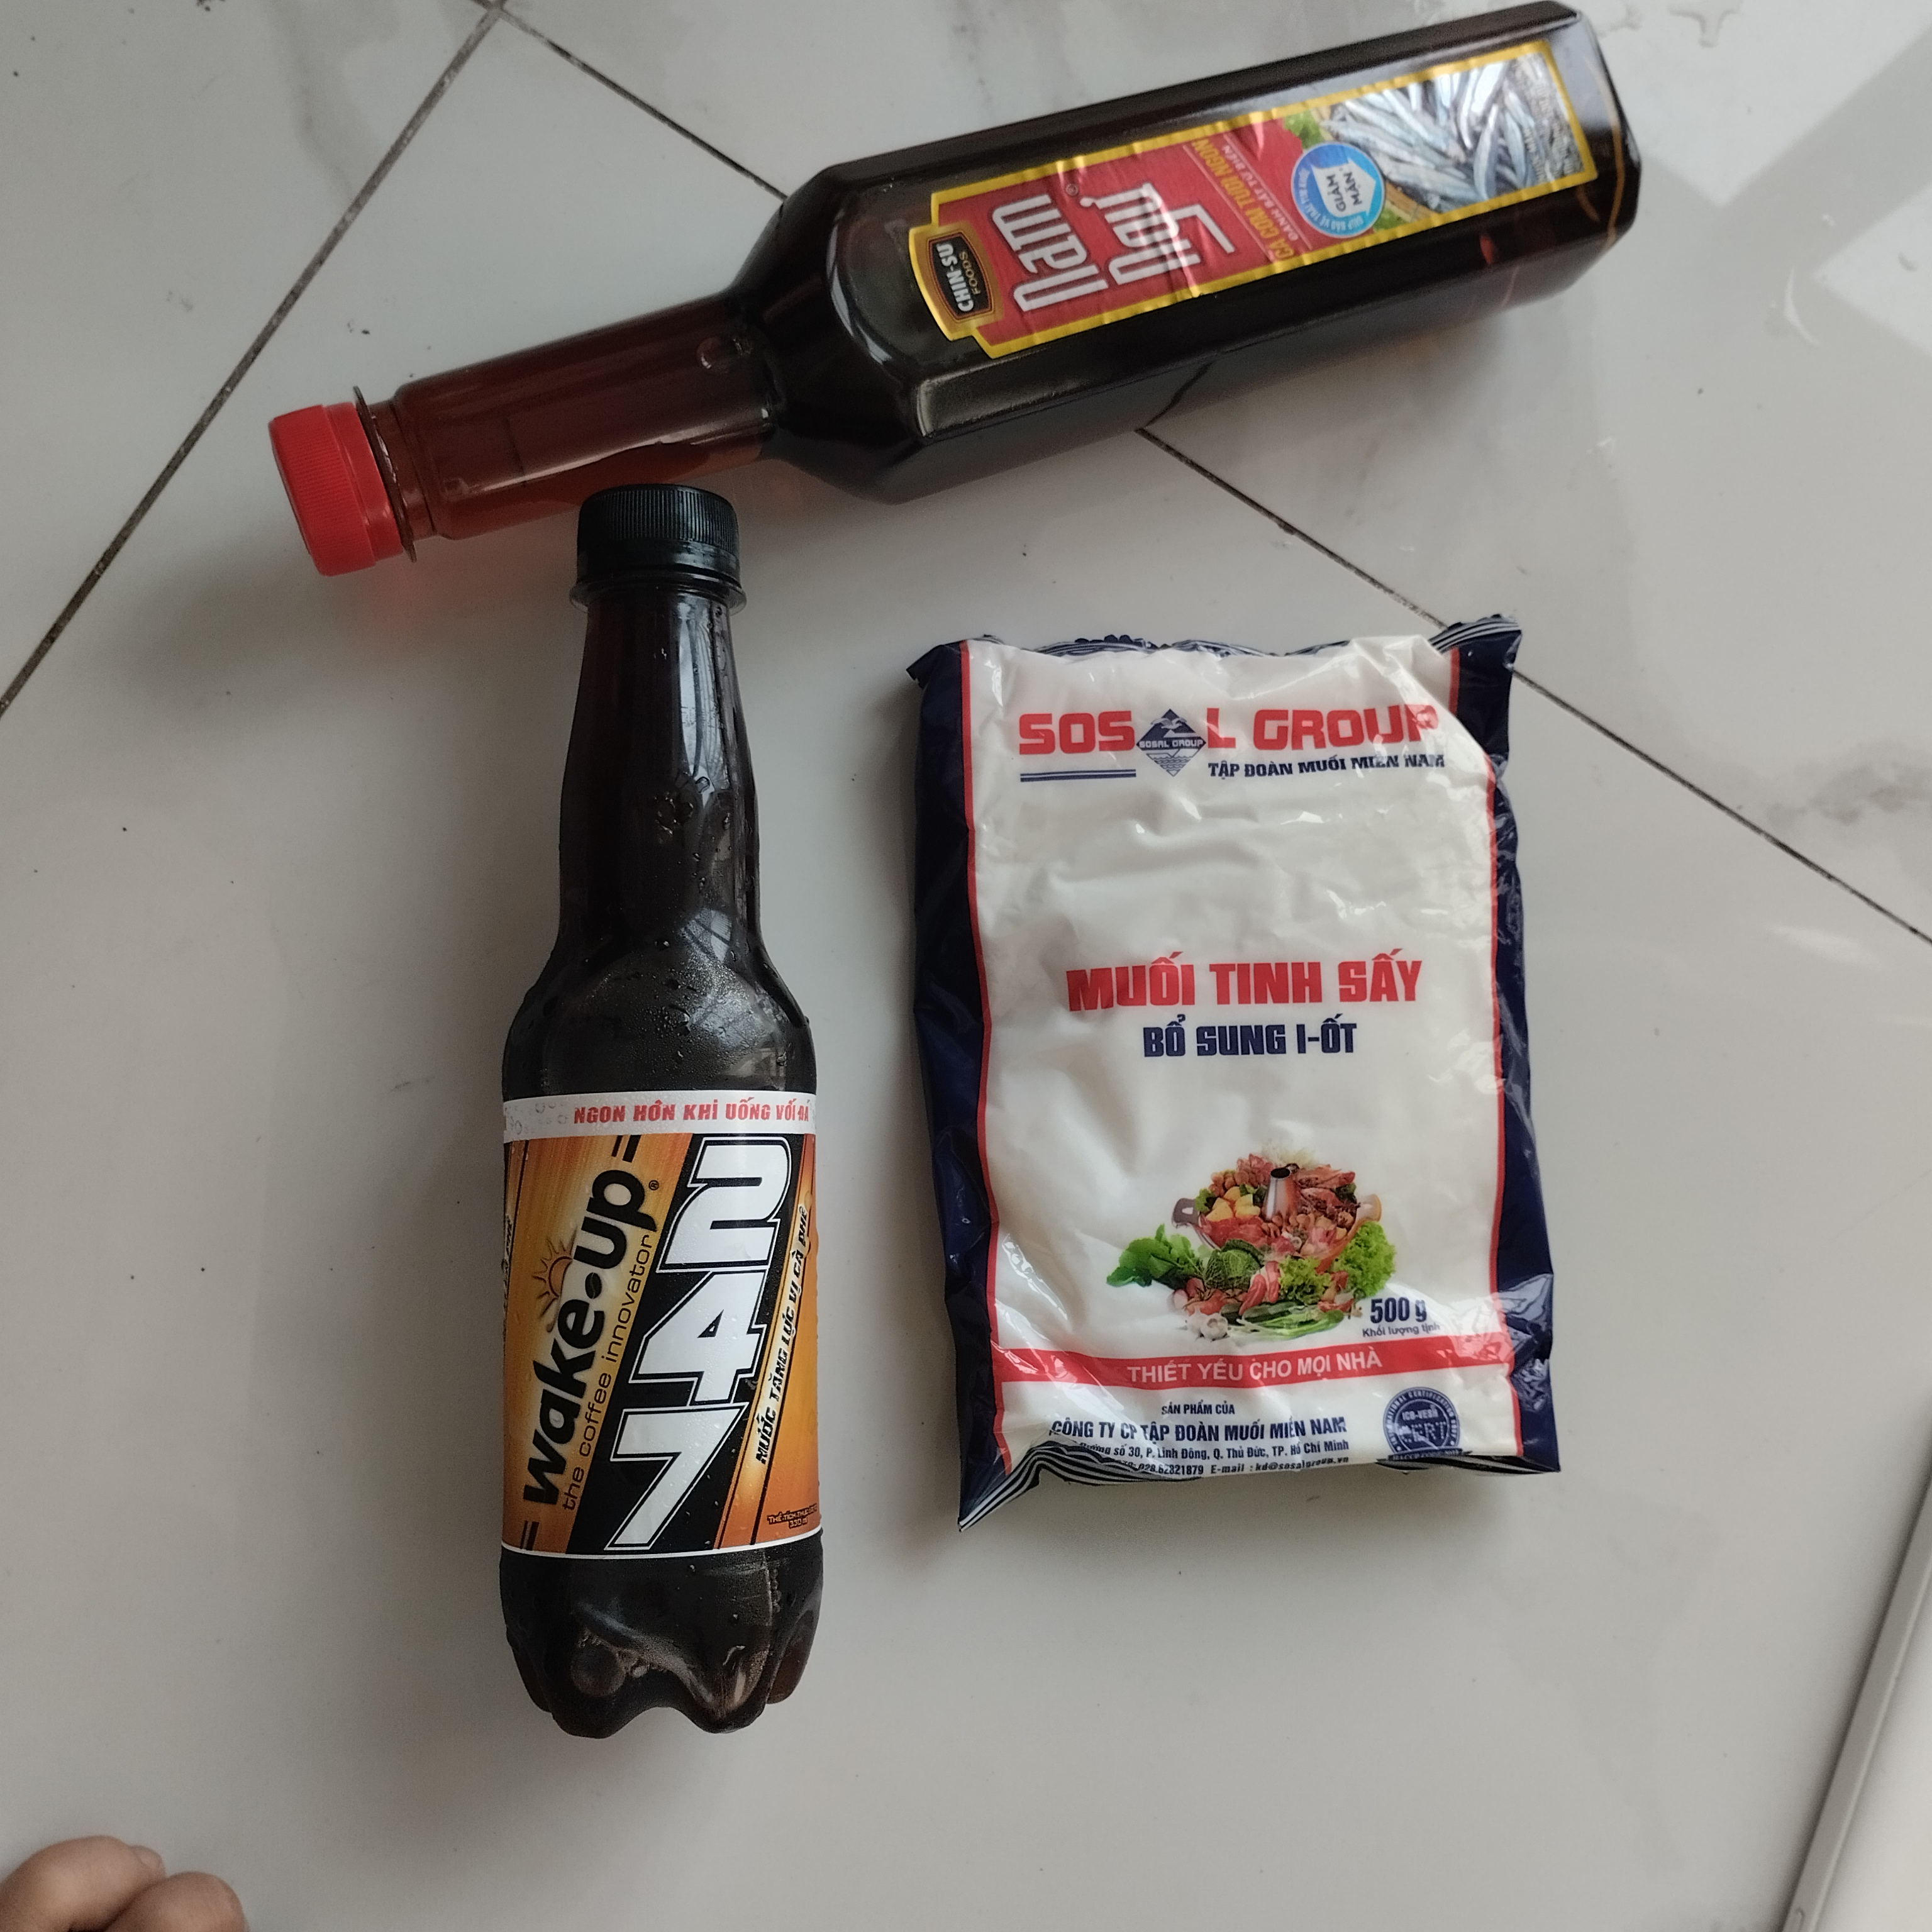247: (499, 481, 828, 1744)
Namngu: (258, 11, 1654, 582)
Salt: (881, 609, 1573, 1541)
